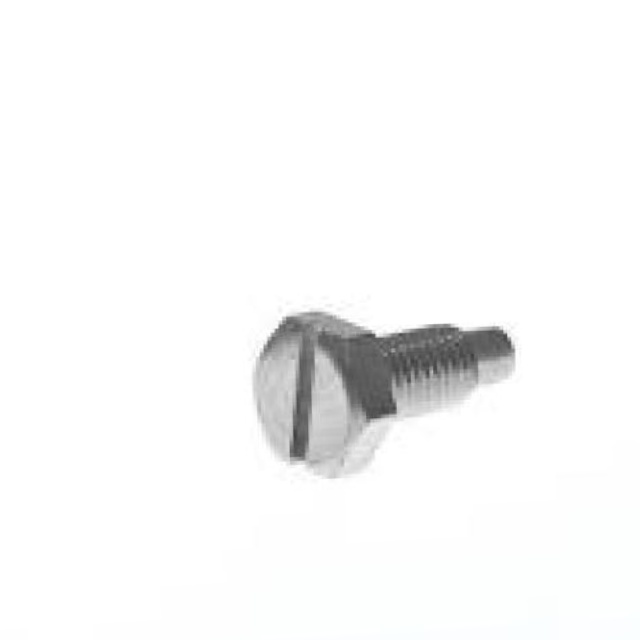duz: (245, 305, 399, 481)
